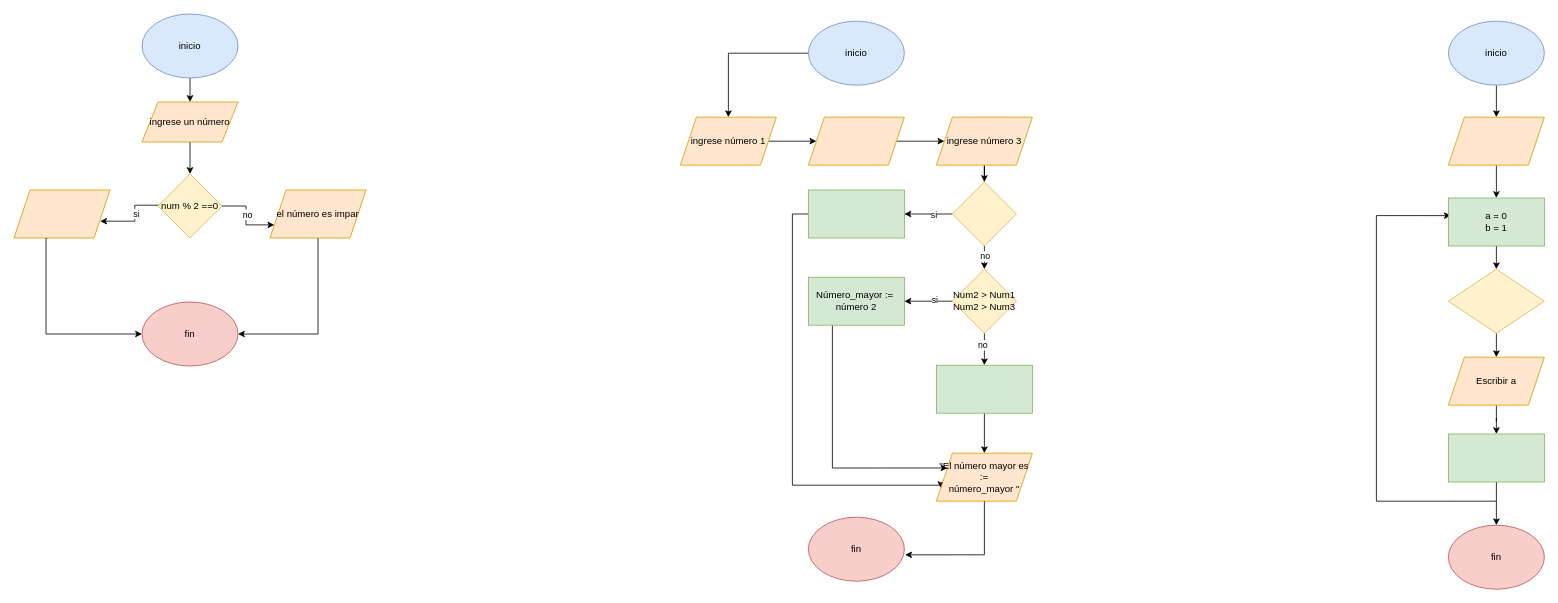
Image size: 1558x603. Some labels were removed from this diagram. Here are the shapes that lost their labels. From the top down, the centre of each, then its label:
pixel 856 140: ingrese número 2
pixel 1496 140: ingrese N
pixel 61 213: el número es par
pixel 856 213: Número_mayor := número 1
pixel 984 213: Num1 > Num2 y Num1 > Num3
pixel 1496 300: Desde i = 1 Hasta i = N primer paso
pixel 984 388: Número_mayor := número 3
pixel 1496 457: temp = a + b a = b b = temp
